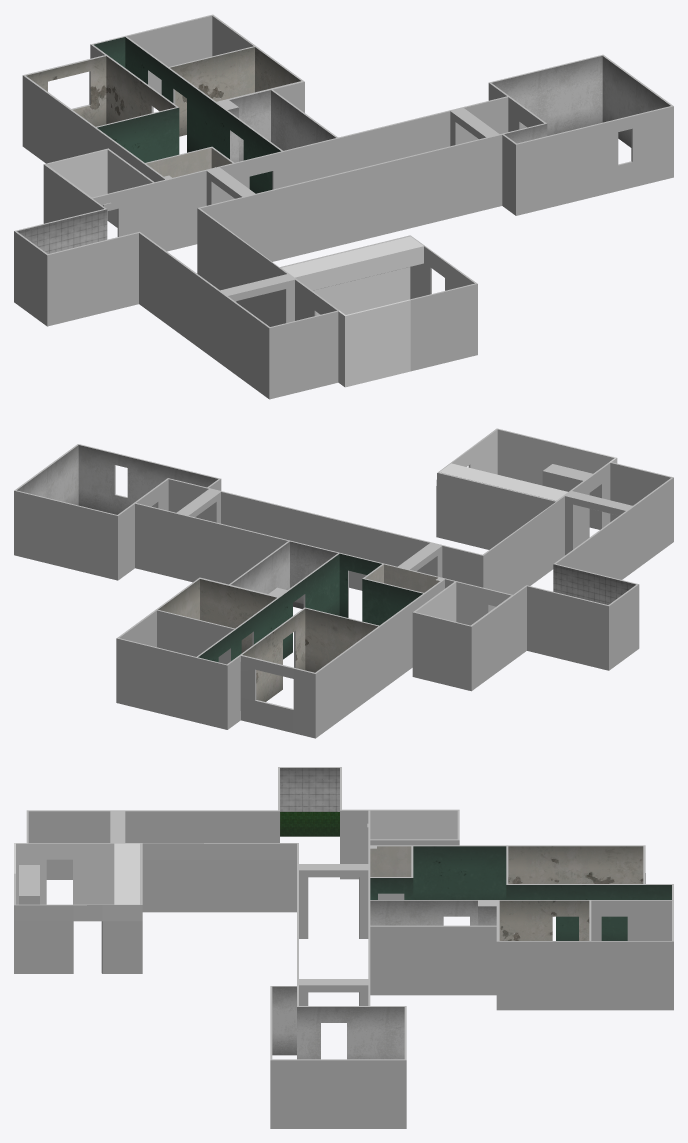
Rendered from Walls.fbx.
3 renders of one model, top to bottom at view 1: azimuth 30°, elevation 25°; view 2: azimuth 150°, elevation 25°; view 3: azimuth 270°, elevation 25°, orthographic. The views are drawn at different scales.
Parts seen in each view (by area): view 1: Walls.003; view 2: Walls.003; view 3: Walls.003.
Part boxes in pixels (x1,y1,x2,y2): Walls.003: [14, 14, 673, 399]; Walls.003: [14, 428, 673, 738]; Walls.003: [14, 767, 673, 1128].
Bounding box in the file's own units: 2379 × 260 × 2265.
